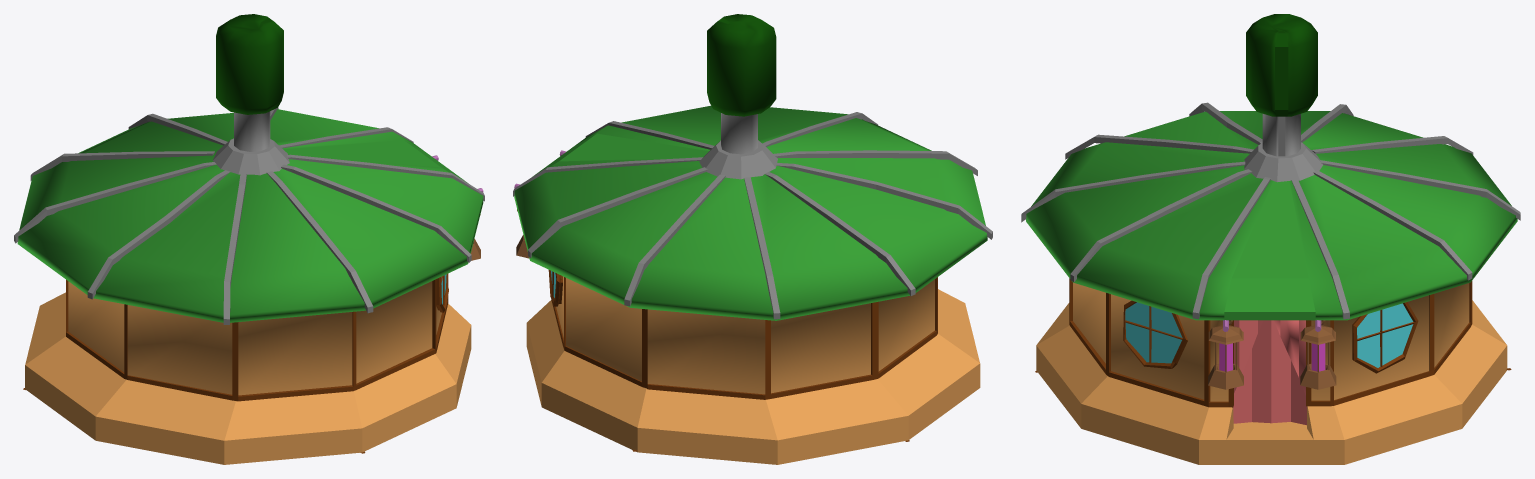
Rendered from Forge_first_level.fbx.
3 views of the same model, side by side, from view 1: azimuth 30°, elevation 25°; view 2: azimuth 150°, elevation 25°; view 3: azimuth 270°, elevation 25° (orthographic). The views are drawn at different scales.
Visible parts, largest first — view 1: Forge, Cylinder.001; view 2: Forge, Cylinder.001; view 3: Forge, Cylinder.001, Plane.003.
Part boxes in pixels (x1,y1,x2,y2): Forge: (14, 14, 484, 464); Cylinder.001: (432, 155, 483, 312); Forge: (513, 14, 992, 464); Cylinder.001: (514, 150, 566, 306); Forge: (1021, 14, 1520, 464); Cylinder.001: (1123, 300, 1418, 389); Plane.003: (1233, 320, 1307, 425).
Bounding box in the file's own units: 3227 × 2567 × 3305.
